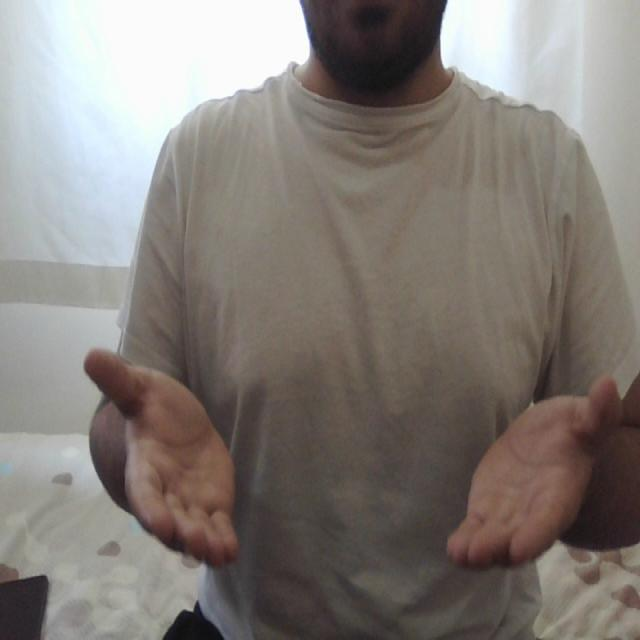Evet: (78, 342, 627, 576)
